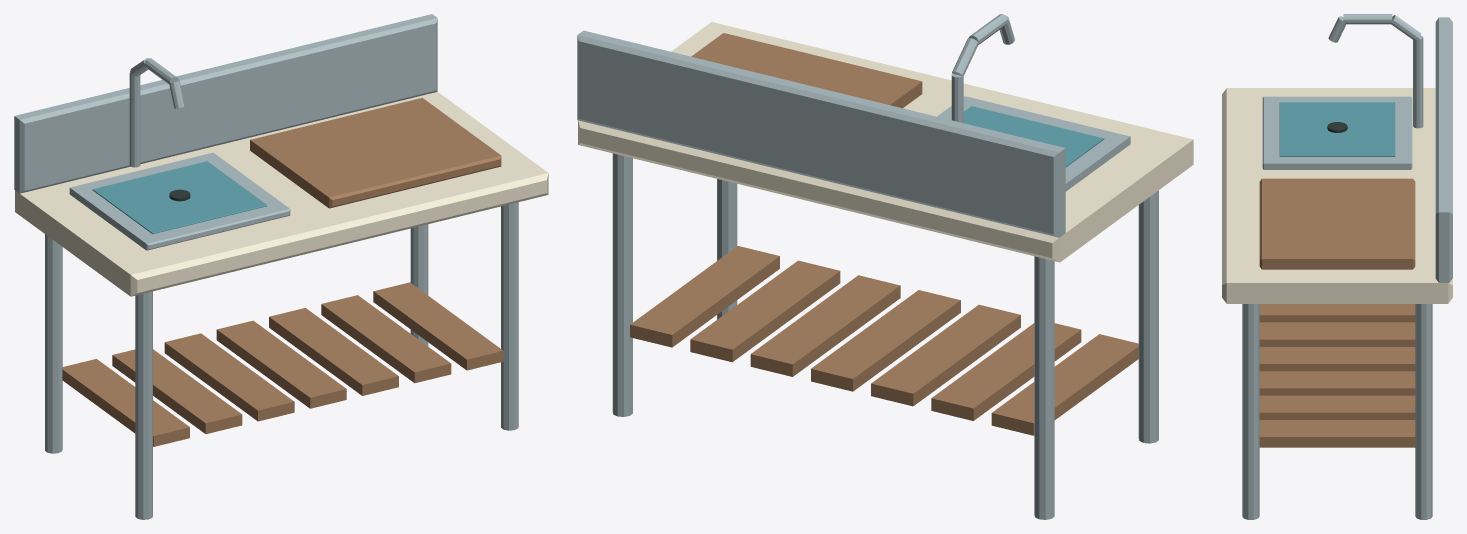
File: harbor-and-tackle-fish-cleaning-table-a5bc6e8d__19596.glb
The picture shows the model from 3 angles, left to right: view 1: azimuth 30°, elevation 25°; view 2: azimuth 150°, elevation 25°; view 3: azimuth 270°, elevation 25°; orthographic projection. The views are drawn at different scales.
Visible parts, largest first — view 1: metal, cedar, ivory, glass; view 2: metal, cedar, ivory, glass; view 3: cedar, ivory, metal, glass.
Part boxes in pixels (x1,y1,x2,y2): metal: (14, 14, 518, 519); cedar: (62, 98, 503, 446); ivory: (15, 92, 548, 296); glass: (92, 161, 267, 234); metal: (577, 14, 1158, 519); cedar: (630, 33, 1138, 435); ivory: (578, 22, 1193, 262); glass: (963, 106, 1104, 167); cedar: (1259, 178, 1415, 447); ivory: (1222, 88, 1452, 303); metal: (1242, 14, 1452, 519); glass: (1279, 102, 1395, 156).
Bounding box in the file's own units: 1.6 × 1.41 × 0.7999.
